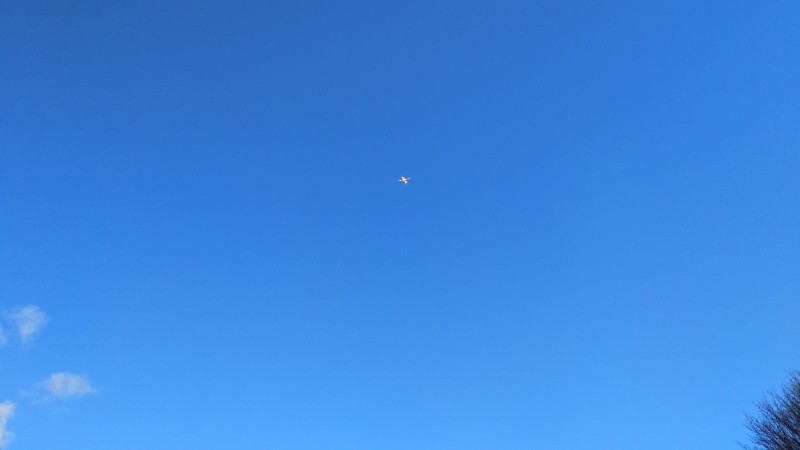drone: (396, 173, 412, 187)
